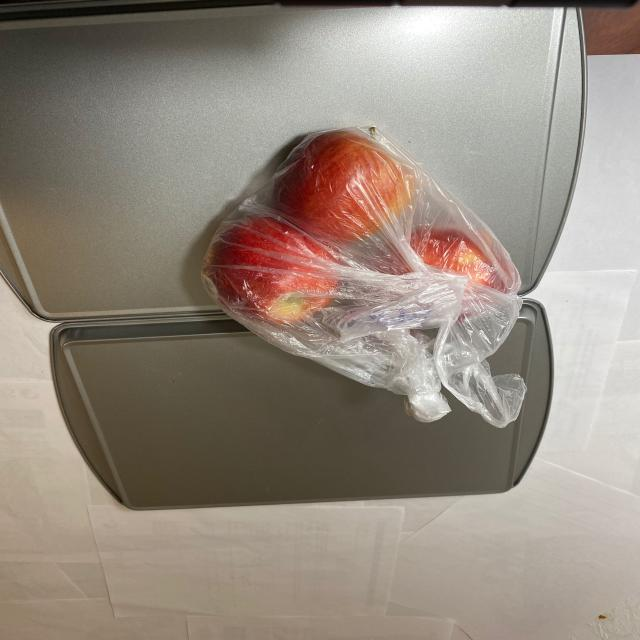apple: (192, 123, 522, 327)
